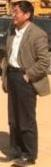boots: (0, 153, 19, 161), (0, 141, 9, 149)
